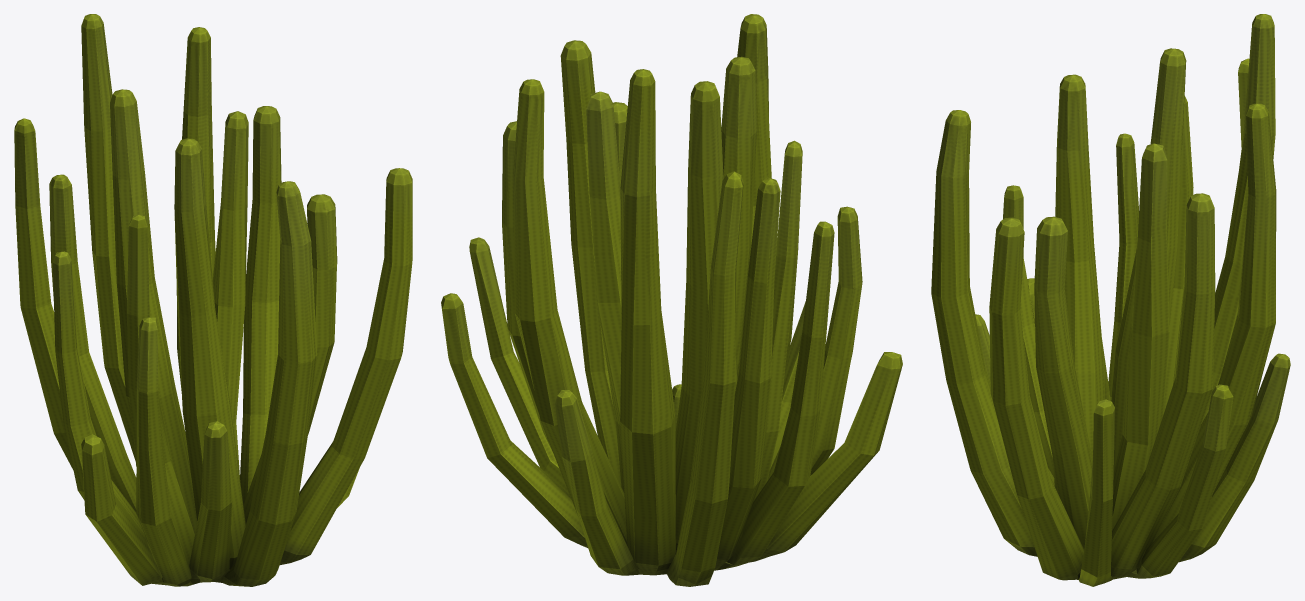
Rendered from Pipe organ cactus.glb.
3 renders of one model, left to right at view 1: azimuth 30°, elevation 25°; view 2: azimuth 150°, elevation 25°; view 3: azimuth 270°, elevation 25°, orthographic. The views are drawn at different scales.
Visible parts, largest first — view 1: OrganPipeCactus_Mesh; view 2: OrganPipeCactus_Mesh; view 3: OrganPipeCactus_Mesh.
Part boxes in pixels (<box>): OrganPipeCactus_Mesh: <box>14,14,412,586</box>; OrganPipeCactus_Mesh: <box>441,14,902,586</box>; OrganPipeCactus_Mesh: <box>931,14,1290,586</box>.
Size of the model in its own units: 3.94 by 5.29 by 3.34.
1 material, 1 textured.
